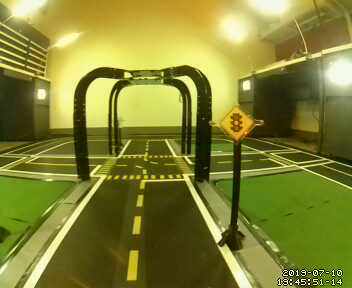Traffic light sign: (219, 106, 254, 141)
